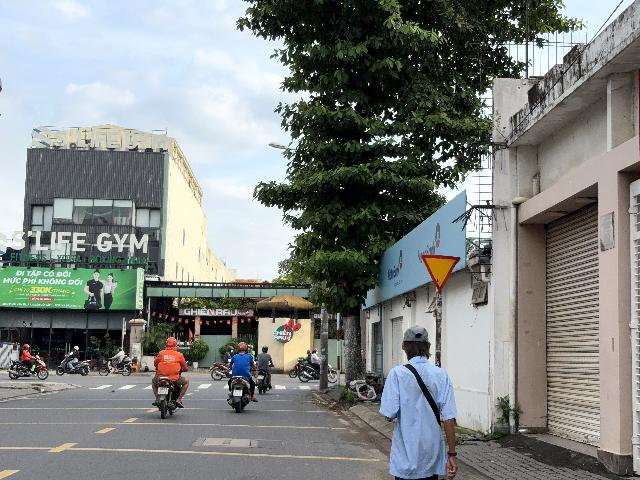giao-nhau-voi-duong-uu-tien: (421, 254, 461, 291)
